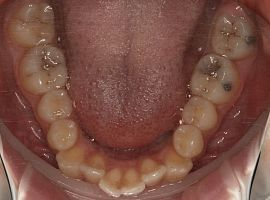LL1BC_healthy: (175, 123, 204, 156)
LL1M_decay: (194, 54, 240, 102)
LL2BC_healthy: (184, 97, 217, 130)
LL2M_decay: (213, 12, 256, 61)
LLCI_healthy: (122, 169, 145, 195)
LLC_healthy: (160, 147, 193, 178)
LLLI_healthy: (141, 157, 167, 186)
LR1BC_healthy: (49, 120, 78, 147)
LR1M_decay: (20, 47, 67, 88)
LR2BC_healthy: (38, 89, 73, 119)
LR2M_decay: (12, 5, 55, 43)
LRCI_healthy: (102, 168, 120, 197)
LRC_healthy: (59, 147, 85, 177)
LRLI_healthy: (85, 156, 103, 181)
